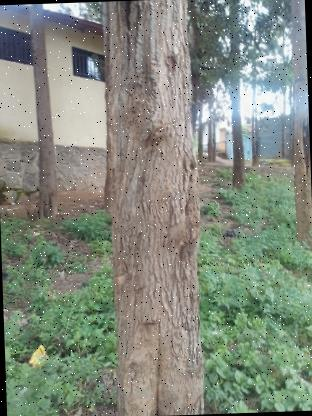tree: (83, 0, 214, 416)
